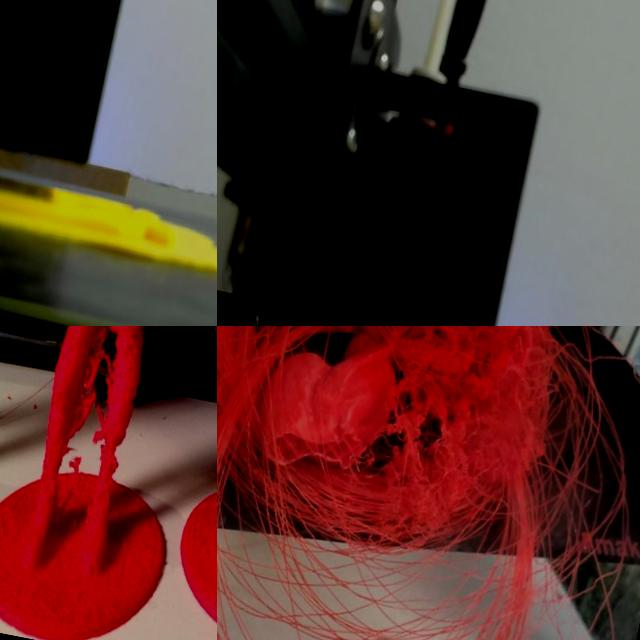spaghetti: (217, 326, 640, 640), (51, 326, 157, 528)
